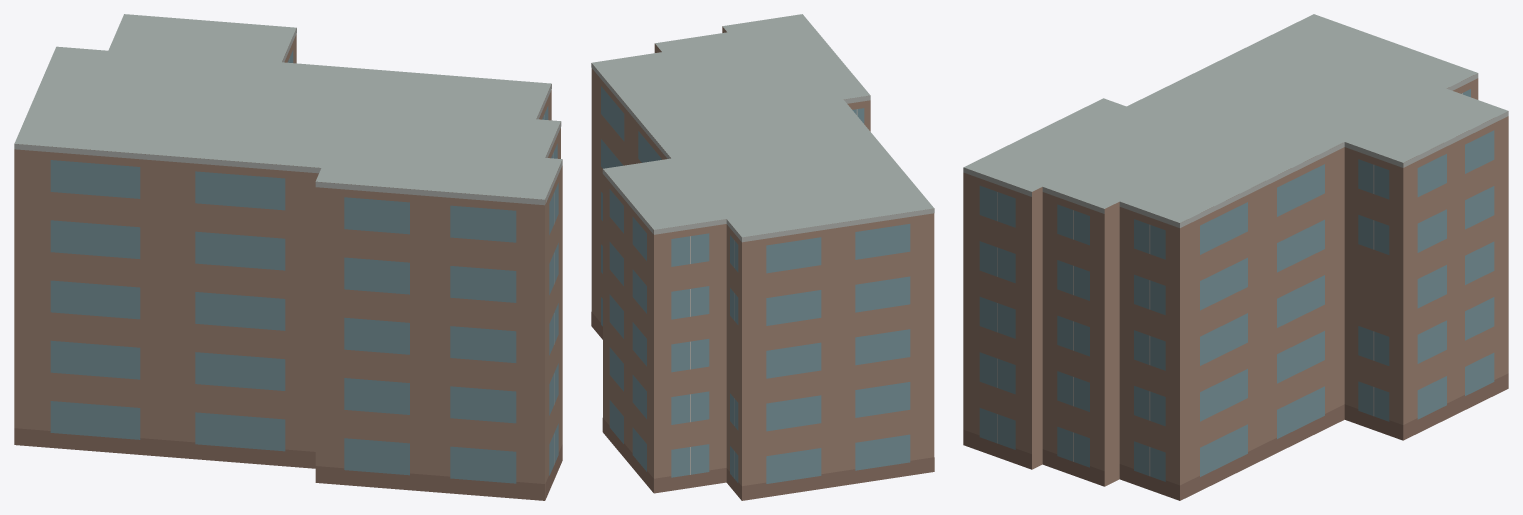
File: survey-upis-32612468.glb
The picture shows the model from 3 angles, left to right: view 1: azimuth 30°, elevation 25°; view 2: azimuth 150°, elevation 25°; view 3: azimuth 270°, elevation 25°; orthographic projection. The views are drawn at different scales.
Visible parts, largest first — view 1: survey-upis-32612468.tmp; view 2: survey-upis-32612468.tmp; view 3: survey-upis-32612468.tmp.
Boxes of the visible parts, x1,y1,x2,y2 form: survey-upis-32612468.tmp: [14, 14, 562, 500]; survey-upis-32612468.tmp: [591, 14, 934, 500]; survey-upis-32612468.tmp: [963, 14, 1508, 500].
Size of the model in its own units: 21.32 by 13.2 by 23.48.
